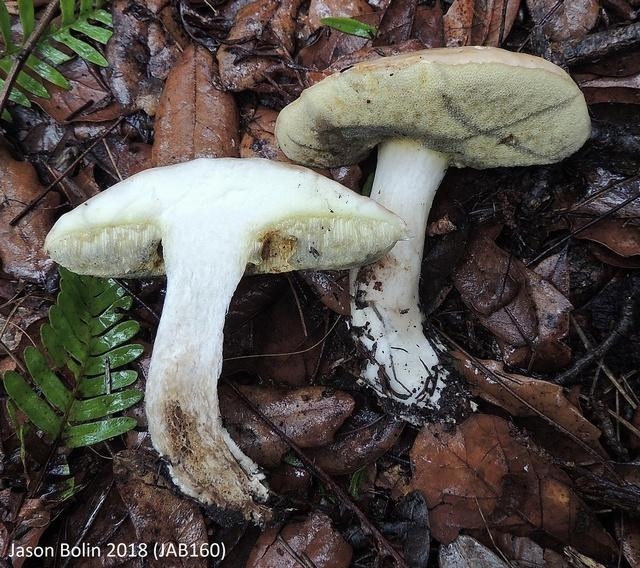edible_mushroom: (42, 154, 411, 525), (273, 43, 592, 424)
